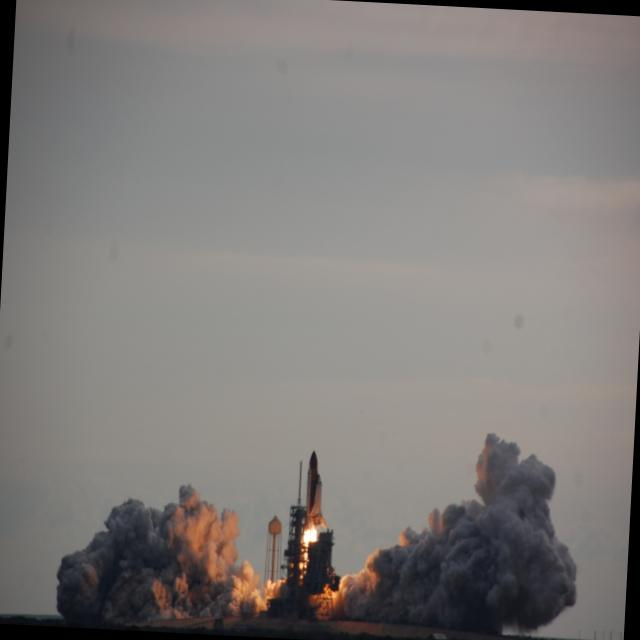rocket: (301, 441, 333, 564)
